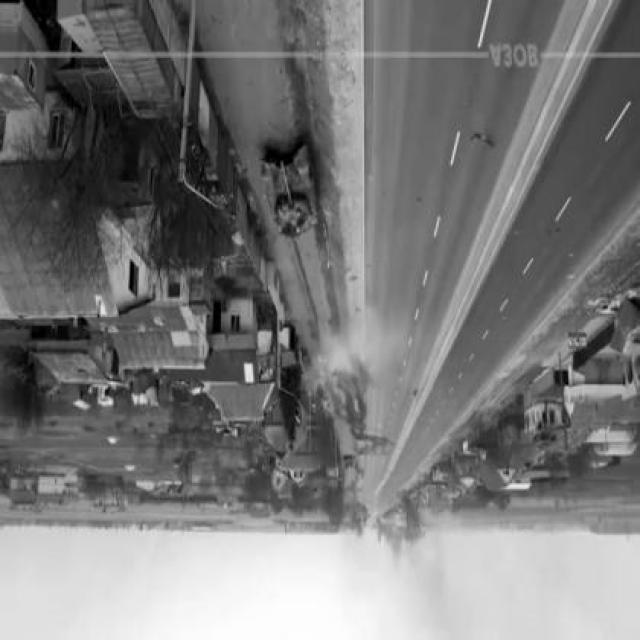tank: (258, 136, 320, 240)
